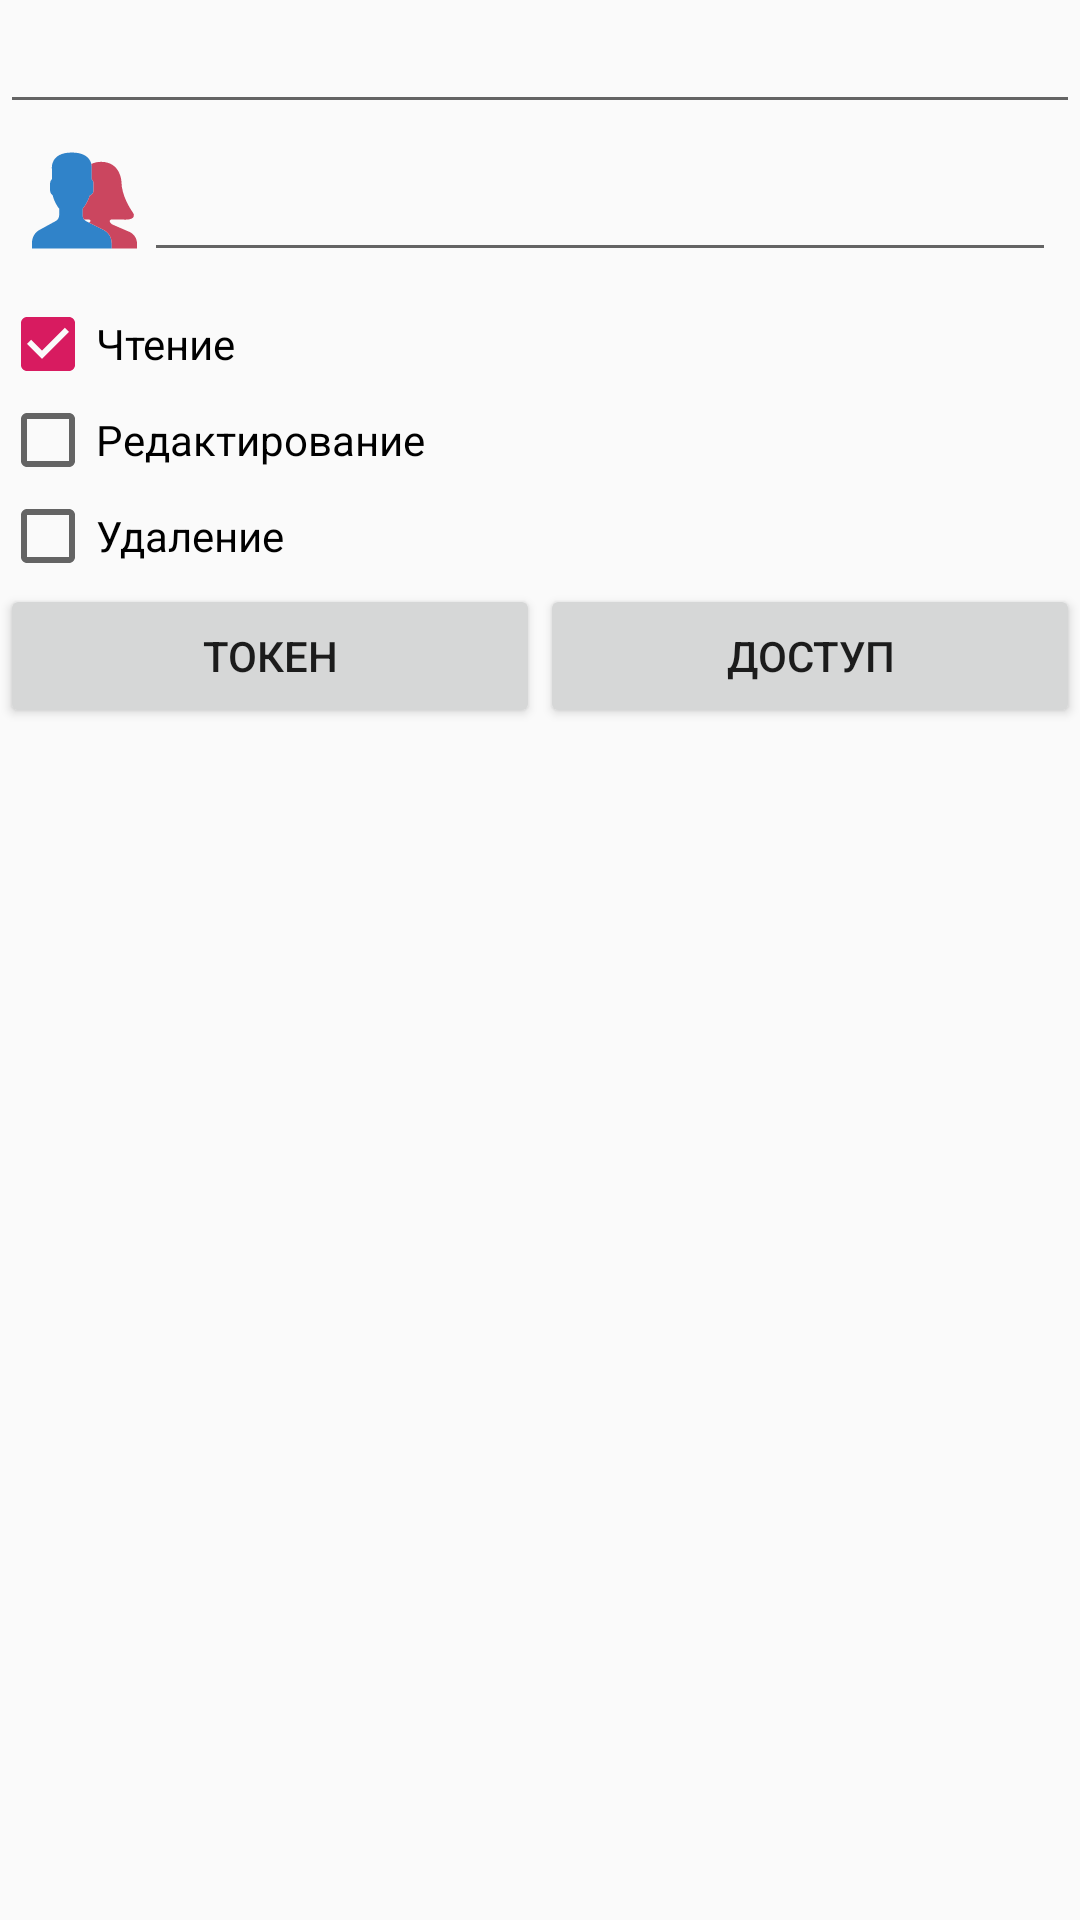

Screen size 1080 × 1920. Icon name, then its center in pixels as (x=x, y=y):
users: (x=84, y=200)
